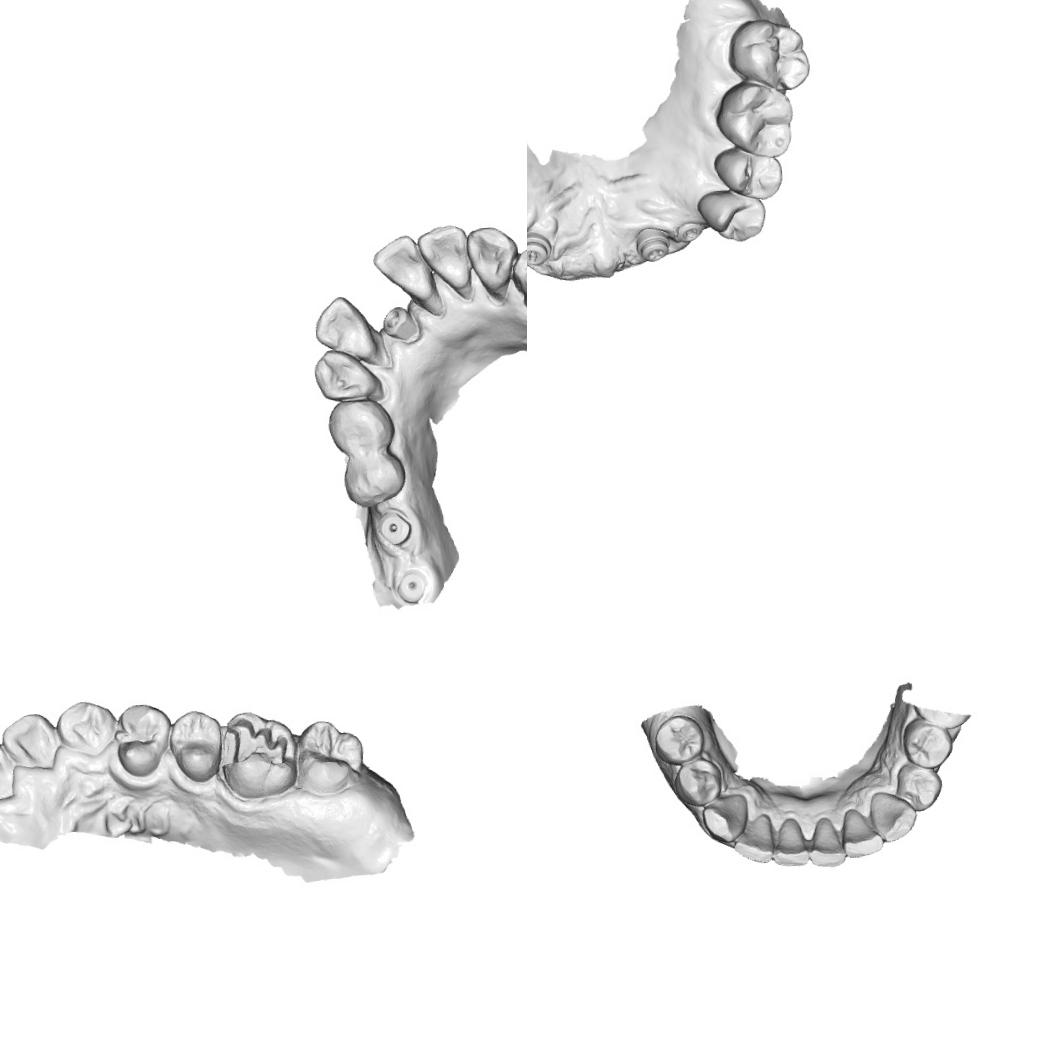canine: (307, 342, 383, 402), (52, 695, 118, 761), (463, 222, 521, 294), (866, 787, 920, 844), (700, 789, 750, 846)
implant: (379, 303, 418, 343), (375, 510, 412, 546), (393, 567, 430, 602), (674, 216, 703, 244)
implant_minus: (527, 228, 553, 268)
implant_plus: (632, 222, 672, 264)
incisor: (370, 230, 434, 303), (310, 291, 373, 360), (414, 221, 474, 292), (0, 709, 63, 771), (728, 811, 776, 866), (803, 812, 848, 870), (838, 805, 884, 859), (768, 812, 810, 868)
inlay: (218, 714, 291, 771)
molar: (712, 77, 798, 162), (723, 14, 812, 95), (292, 714, 368, 798)
premolar: (108, 698, 172, 780), (166, 705, 226, 786), (323, 394, 398, 456), (710, 142, 785, 204), (695, 186, 768, 246), (340, 448, 408, 509), (899, 714, 955, 771), (650, 711, 706, 767), (670, 755, 724, 809), (893, 761, 945, 814), (508, 245, 527, 306)
